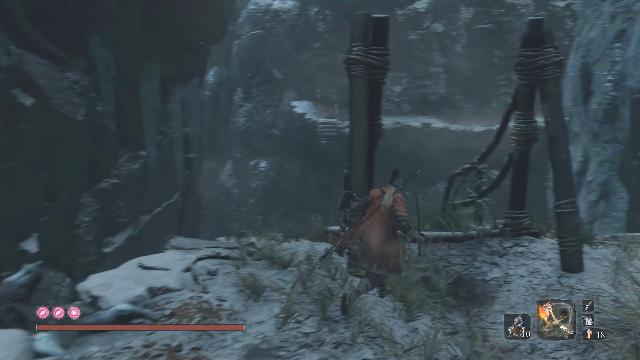sk: (316, 168, 427, 317)
